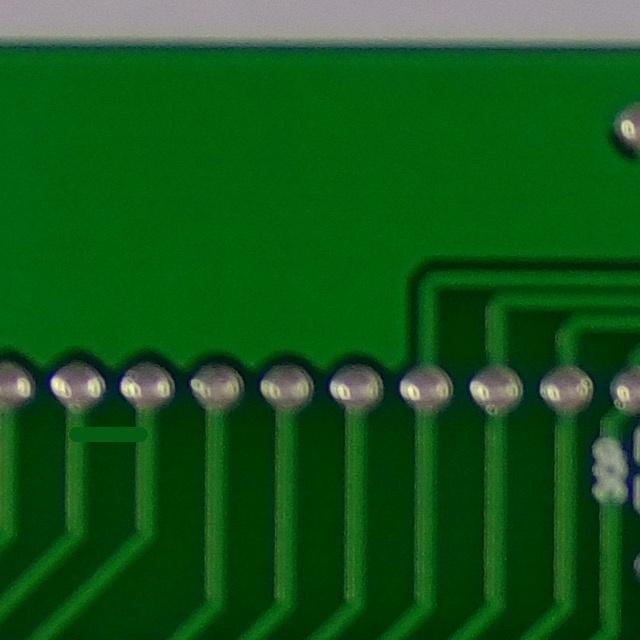short: (56, 404, 168, 461)
